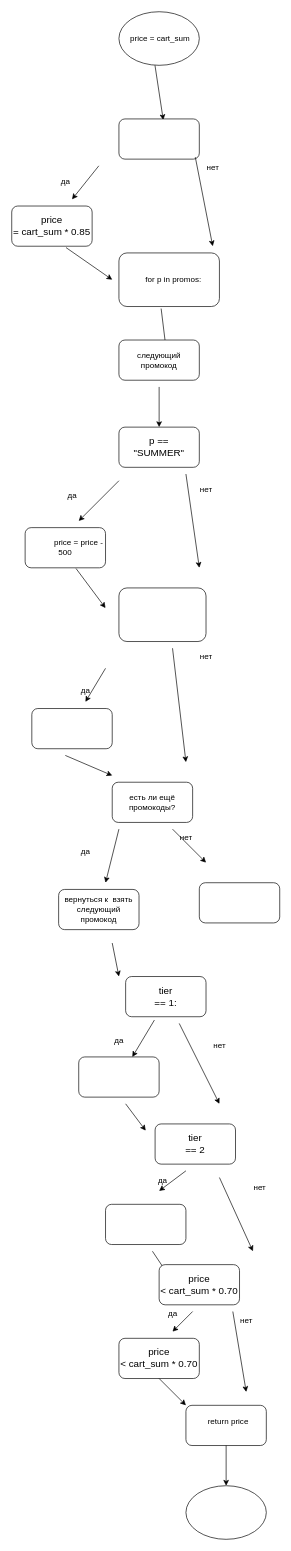
Image size: 291x1551. Some labels were removed from this diagram. The shapes that lost their labels are listed below. From the top down, each one's box as (x1, y1, x2, y2) in pixels, then its label:
(118, 118, 199, 159): cart_sum > 15000
(118, 587, 206, 642): p == "VIP"
(31, 708, 112, 749): price = price * 0.90
(199, 882, 280, 923): выход из цикла
(78, 1056, 159, 1097): price = price * 0.97
(105, 1204, 186, 1245): price = price * 0.93
(185, 1485, 266, 1539): конец
